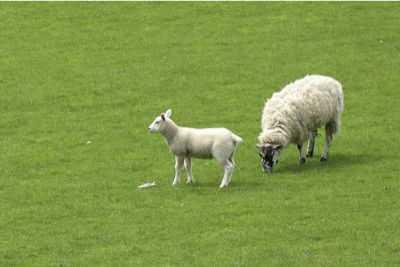koyun: (256, 73, 344, 176), (147, 110, 244, 191)
